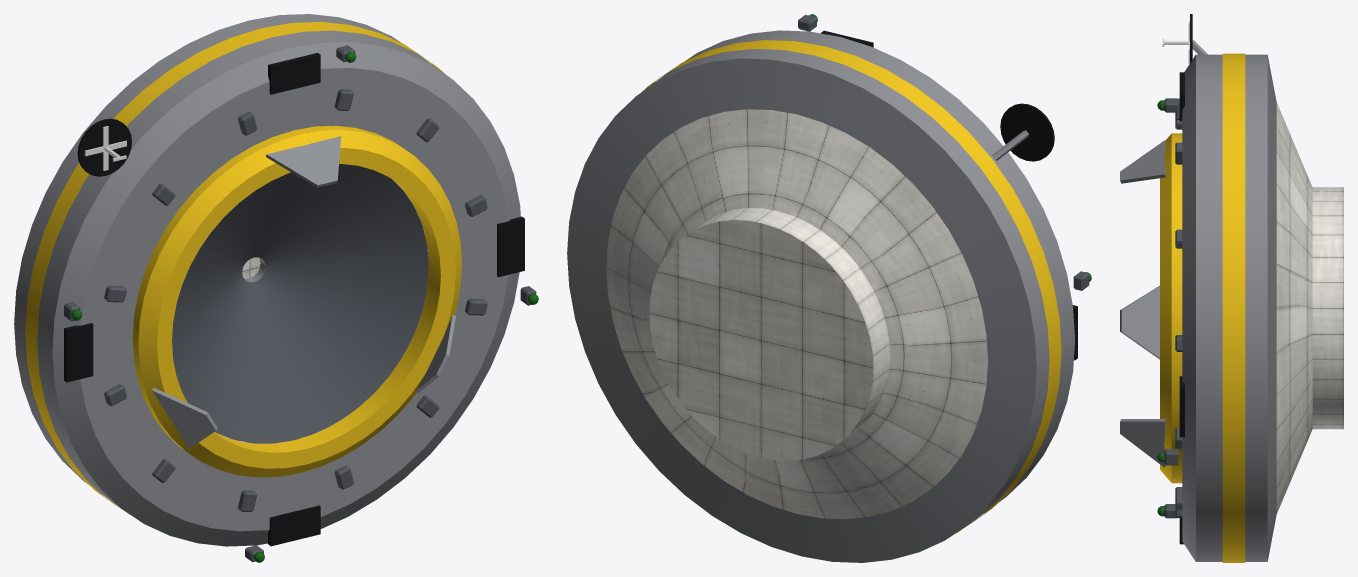
The model's file is docking_port.obj.
3 views of the same model, side by side, from view 1: azimuth 30°, elevation 25°; view 2: azimuth 150°, elevation 25°; view 3: azimuth 270°, elevation 25° (orthographic). The views are drawn at different scales.
Visible parts, largest first — view 1: docking_port; view 2: docking_port; view 3: docking_port.
Part boxes in pixels (x1=…): docking_port: x1=14, y1=14, x2=538, y2=562; docking_port: x1=567, y1=14, x2=1091, y2=562; docking_port: x1=1120, y1=14, x2=1343, y2=562.
Bounding box in the file's own units: 5.68 × 5.68 × 2.5.
7 materials, 1 textured.
